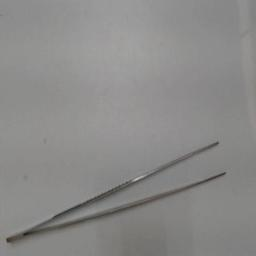DeBakey Dissector: (3, 138, 235, 248), (214, 137, 216, 141)
